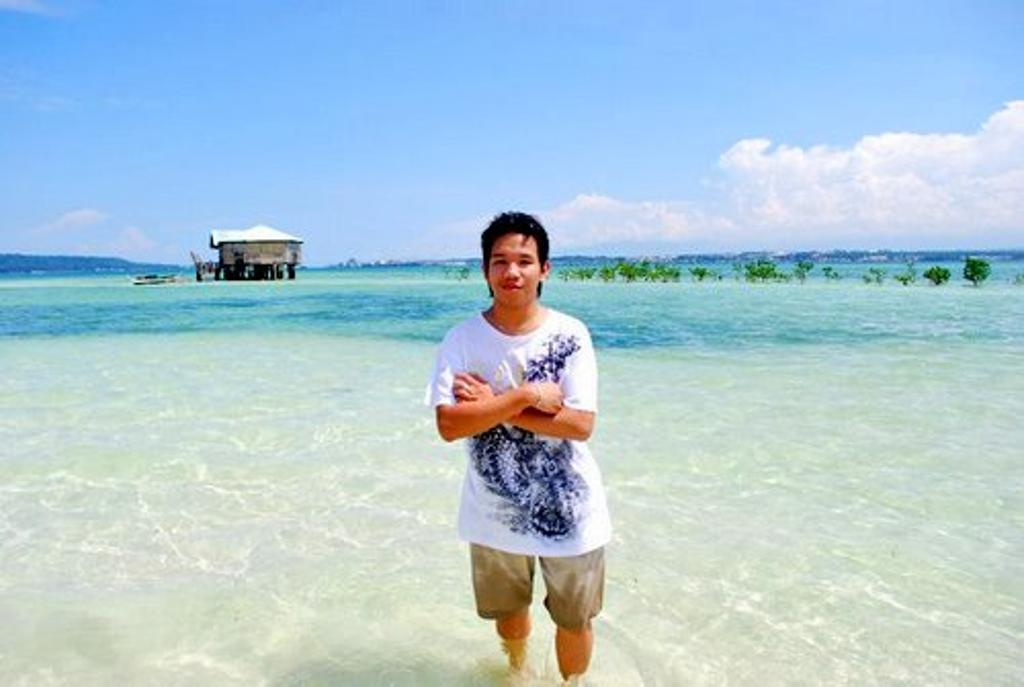face: (484, 224, 540, 304)
